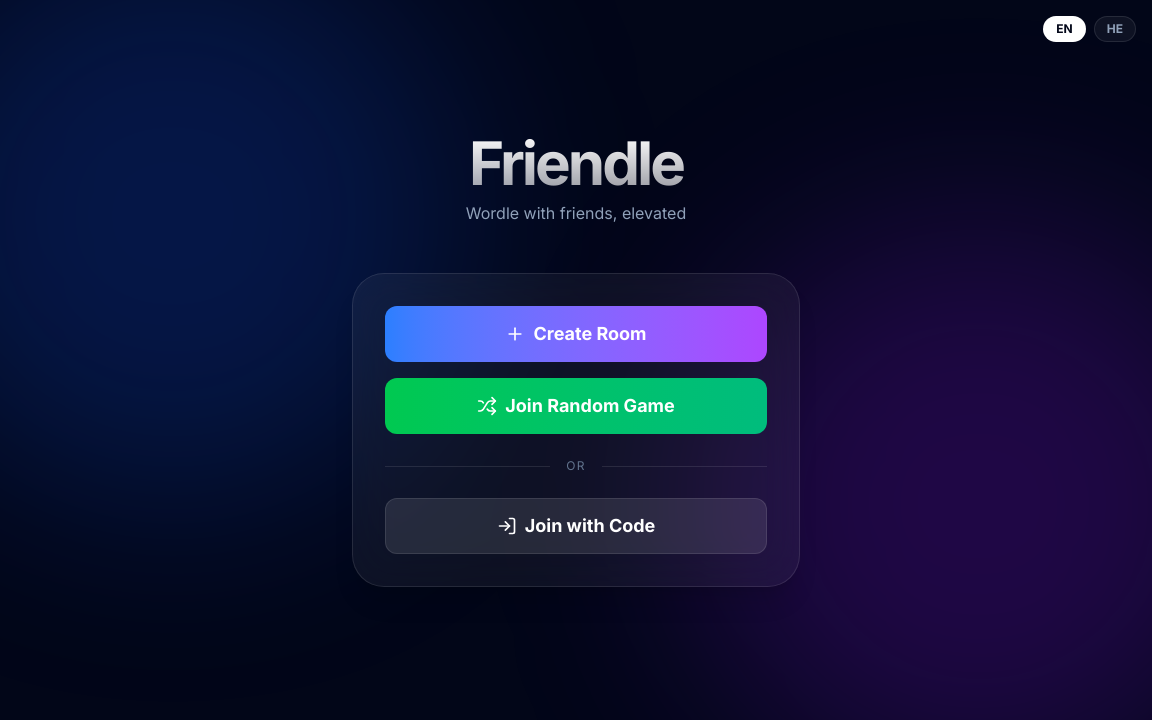
it: Home Page - New Flow › navigates to join room flow (step 2)
Click the button "Join with Code" at (576, 526), box top-left (385, 498), bottom-right (767, 554)
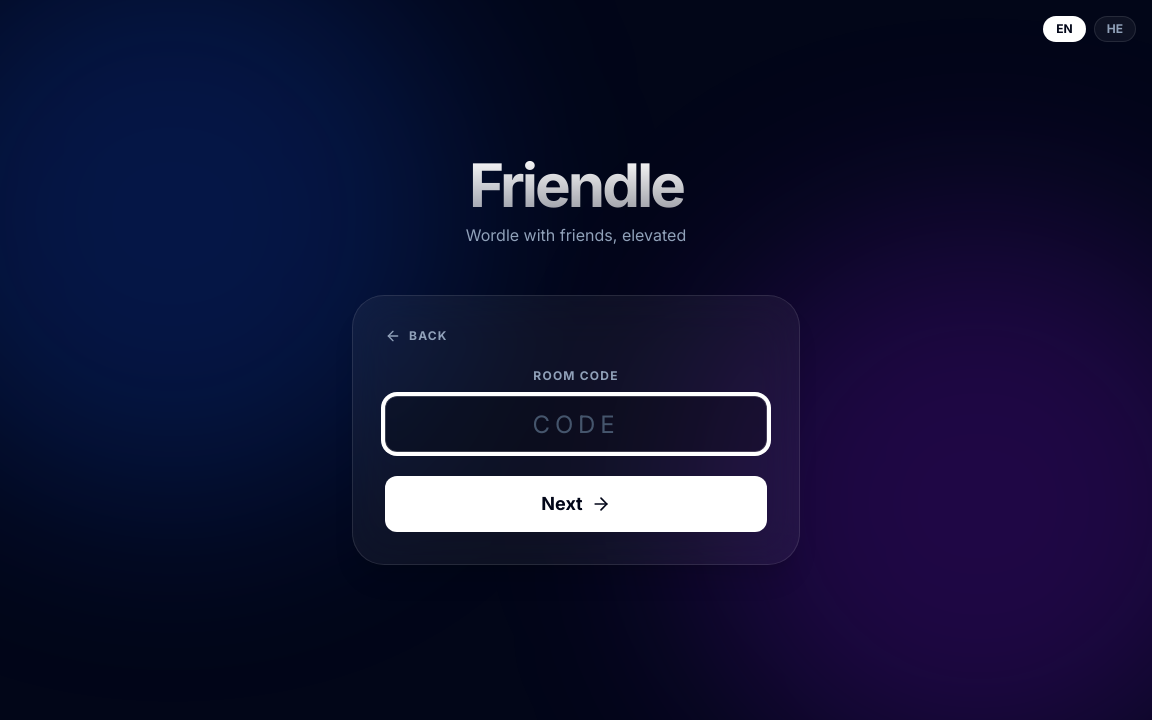
Expected: the field labelled "Room Code" is shown, top-left (385, 396), bottom-right (767, 452)
Expected: the button "Next" is shown, top-left (385, 476), bottom-right (767, 532)
